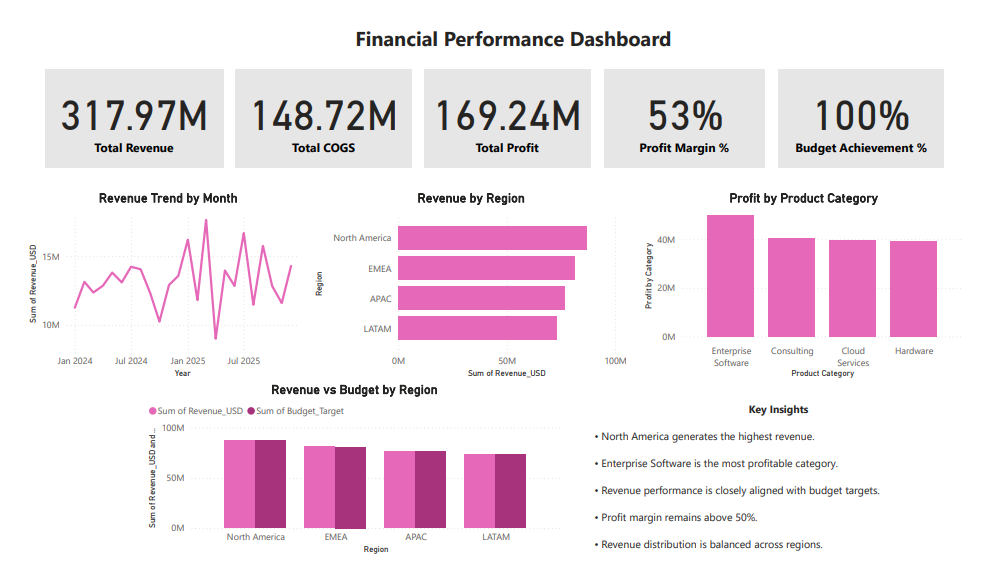

Layout of this report page (visuals, bound fields, positions):
{"tool":"powerbi","page":{"name":"Page 1","canvas":[1280,720],"ordinal":0},"visuals":[{"type":"card","fields":{"Values":["Table.Total Revenue"]},"box":[37.2,71.2,238,131.2],"z":0},{"type":"card","fields":{"Values":["Table.Total COGS"]},"box":[291.5,71.2,234.8,131.2],"z":1000},{"type":"card","fields":{"Values":["Table.Total Profit"]},"box":[542.4,71.2,221.8,131.2],"z":2000},{"type":"card","fields":{"Values":["Table.Profit Margin %"]},"box":[782.1,71.2,213.7,131.2],"z":3000},{"type":"card","fields":{"Values":["Table.Budget Achievement %"]},"box":[1013.6,71.2,221.8,131.2],"z":4000},{"type":"lineChart","title":"Revenue Trend by Month","fields":{"Y":["Sum(Executive Financial Overview.Revenue_USD)"],"Category":["Executive Financial Overview.Date.Variation.Date Hierarchy.Year","Executive Financial Overview.Date.Variation.Date Hierarchy.Month"]},"box":[11.3,231.5,380.5,255.8],"z":5000},{"type":"clusteredBarChart","title":"Revenue by Region","fields":{"Category":["Executive Financial Overview.Region"],"Y":["Sum(Executive Financial Overview.Revenue_USD)"]},"box":[391.9,231.5,425.9,255.8],"z":6000},{"type":"clusteredColumnChart","title":"Profit by Product Category","fields":{"Category":["Executive Financial Overview.Product Category"],"Y":["Table.Profit by Category"]},"box":[830.7,231.5,434,255.8],"z":7000},{"type":"textbox","box":[11.3,508.4,612.1,13],"z":8000},{"type":"textbox","box":[336.4,0,619.8,56.7],"z":9000},{"type":"clusteredColumnChart","title":"Revenue vs Budget by Region","fields":{"Category":["Executive Financial Overview.Region"],"Y":["Sum(Executive Financial Overview.Revenue_USD)","Sum(Executive Financial Overview.Budget_Target)"]},"box":[170,487.4,558.6,233.2],"z":10000},{"type":"textbox","box":[764.3,508.4,500.3,212.1],"z":11000}]}

Visuals, with their boxes in screenshot pixels (x1, y1, x2, y2), scaled from the page's 1280x720 canvas onto the 993x571 screenshot:
card - Table.Total Revenue: 29 56 213 161
card - Table.Total COGS: 226 56 408 161
card - Table.Total Profit: 421 56 593 161
card - Table.Profit Margin %: 607 56 773 161
card - Table.Budget Achievement %: 786 56 958 161
"Revenue Trend by Month" lineChart: 9 184 304 386
"Revenue by Region" clusteredBarChart: 304 184 634 386
"Profit by Product Category" clusteredColumnChart: 644 184 981 386
textbox: 9 403 484 413
textbox: 261 0 742 45
"Revenue vs Budget by Region" clusteredColumnChart: 132 387 565 570
textbox: 593 403 981 570
